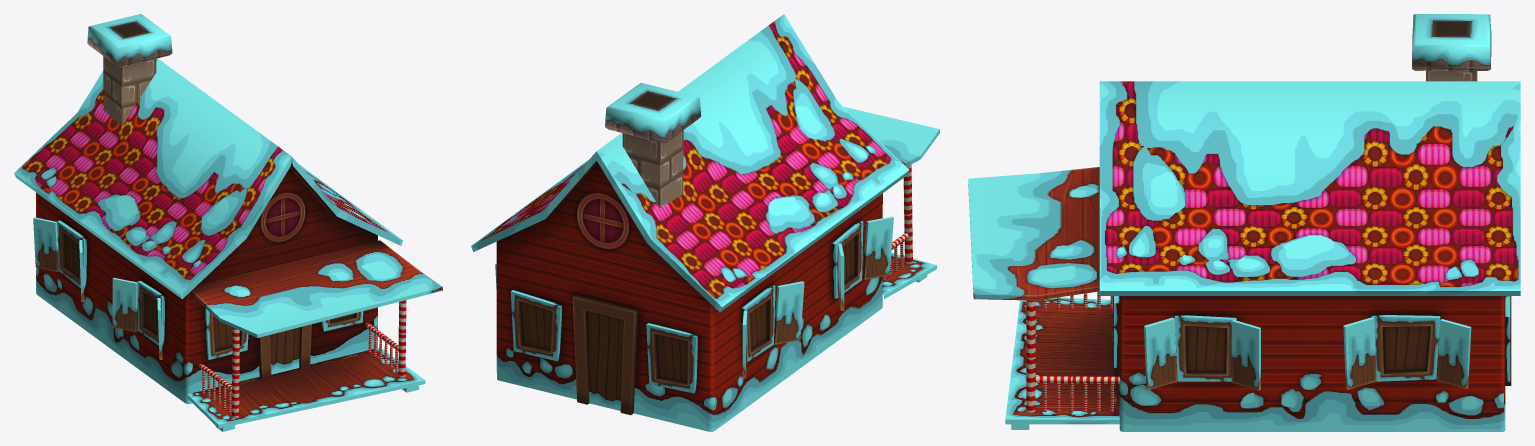
File: House3.FBX
3 renders of one model, left to right at view 1: azimuth 30°, elevation 25°; view 2: azimuth 150°, elevation 25°; view 3: azimuth 270°, elevation 25°, orthographic. The views are drawn at different scales.
Visible parts, largest first — view 1: House3; view 2: House3; view 3: House3.
Part boxes in pixels (left/top/right/bottom): House3: left=14, top=14, right=442, bottom=431; House3: left=471, top=14, right=939, bottom=431; House3: left=968, top=14, right=1520, bottom=431.
Bounding box in the file's own units: 146 × 158 × 240.
1 material, 1 textured.
